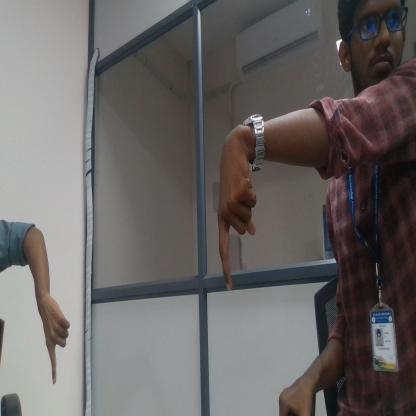Down: (200, 156, 260, 294)
